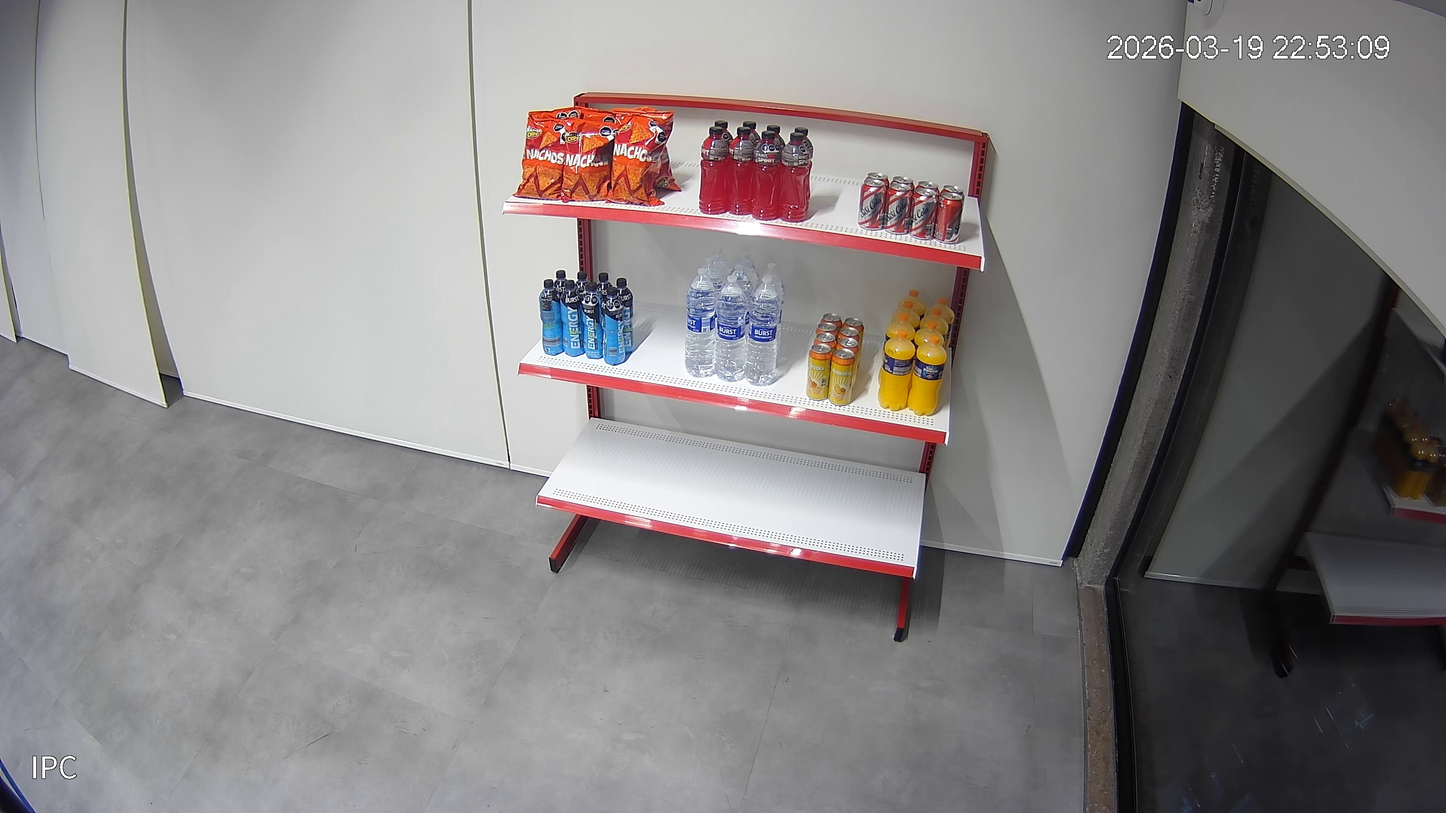agua_burst: (758, 263, 783, 307), (731, 263, 752, 295), (703, 254, 720, 292)
burst_energetica_roja: (698, 127, 729, 216), (752, 131, 781, 221), (794, 127, 817, 209)
burst_energy: (540, 278, 561, 355), (616, 278, 632, 352), (596, 272, 610, 300)
nachos_naturasol: (607, 108, 669, 209), (512, 116, 563, 200), (576, 105, 615, 124)
nebraska_mango: (829, 349, 856, 405), (806, 343, 830, 402), (820, 312, 842, 329)
sisi_cola: (858, 179, 885, 230), (934, 193, 960, 243), (891, 174, 913, 185)
sun_paradise_naranja: (909, 333, 945, 415), (886, 314, 914, 340), (920, 309, 947, 335)
